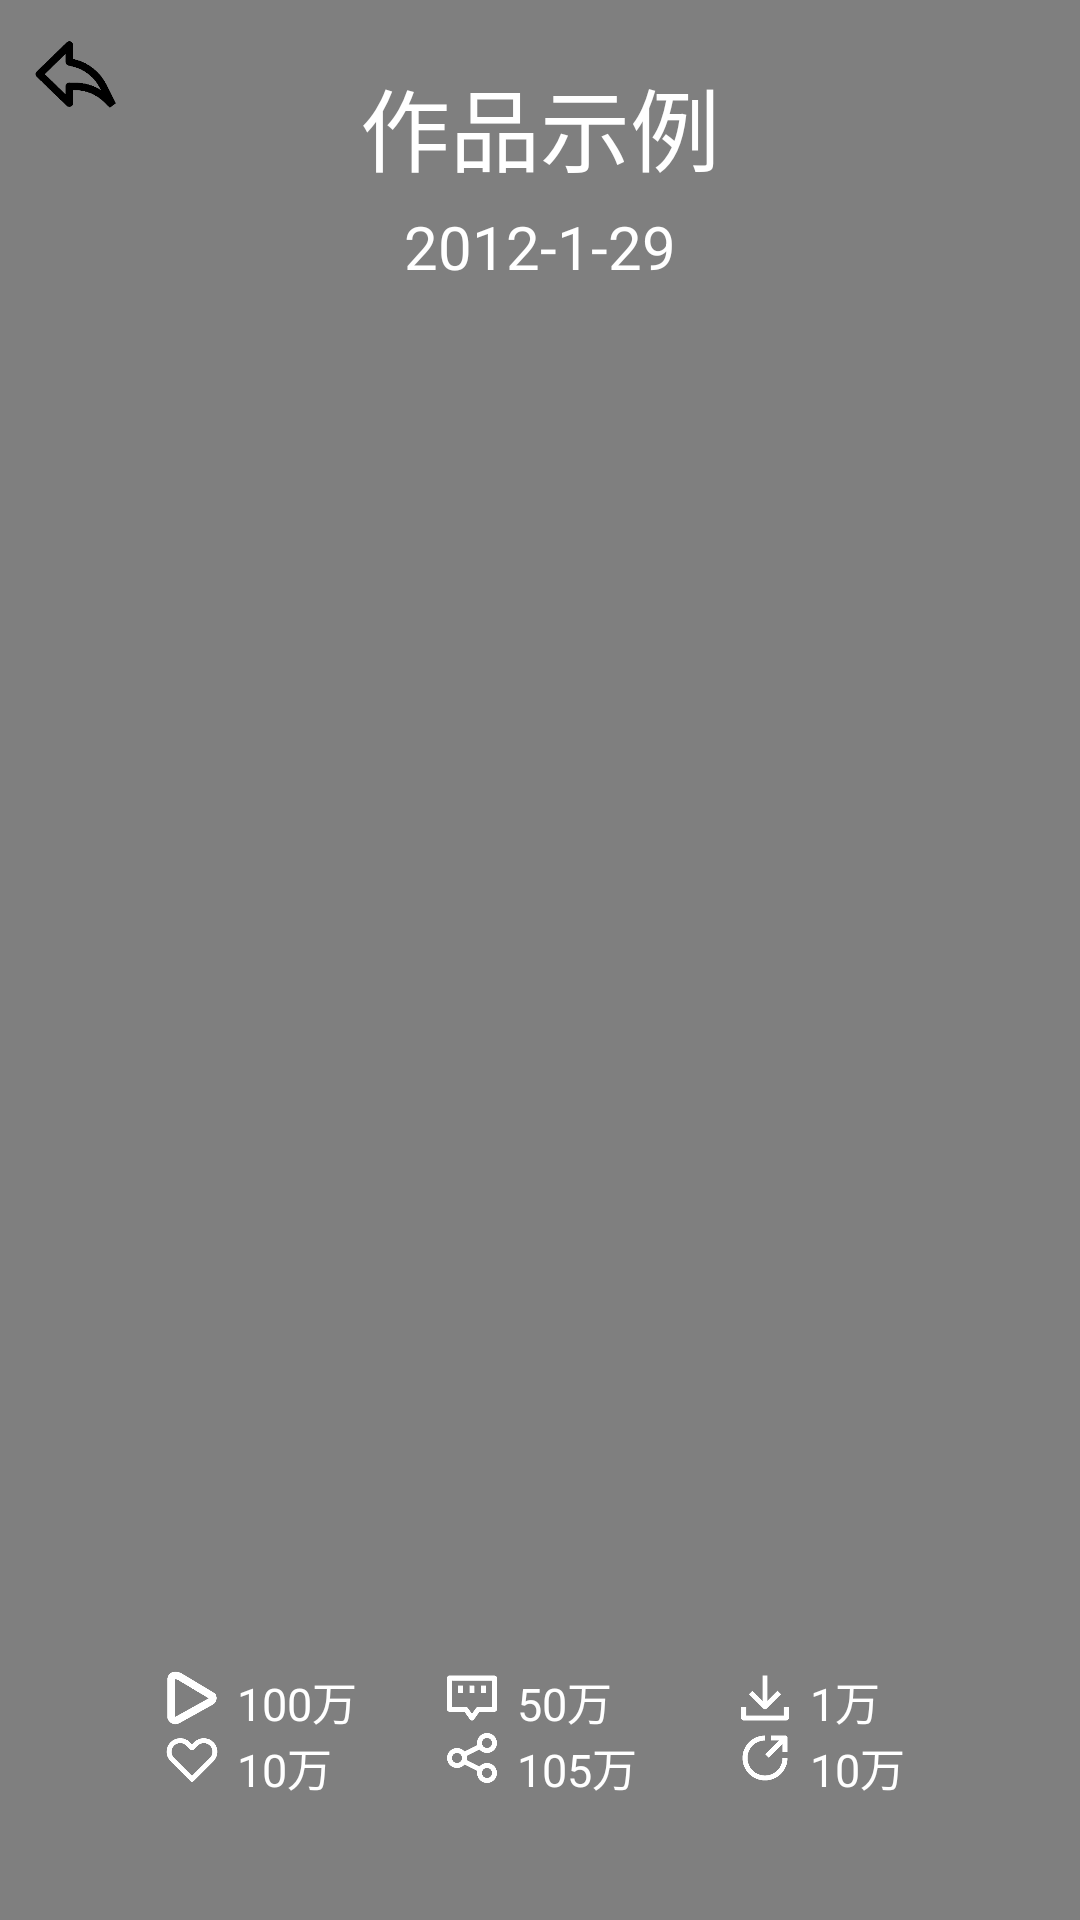

Icons on this 1080w x 1920h Android screen, each with the point to tap as (x,y):
comment: (472,1698)
download: (765,1698)
like: (192,1760)
play: (192,1698)
share: (472,1758)
transmit: (765,1758)
